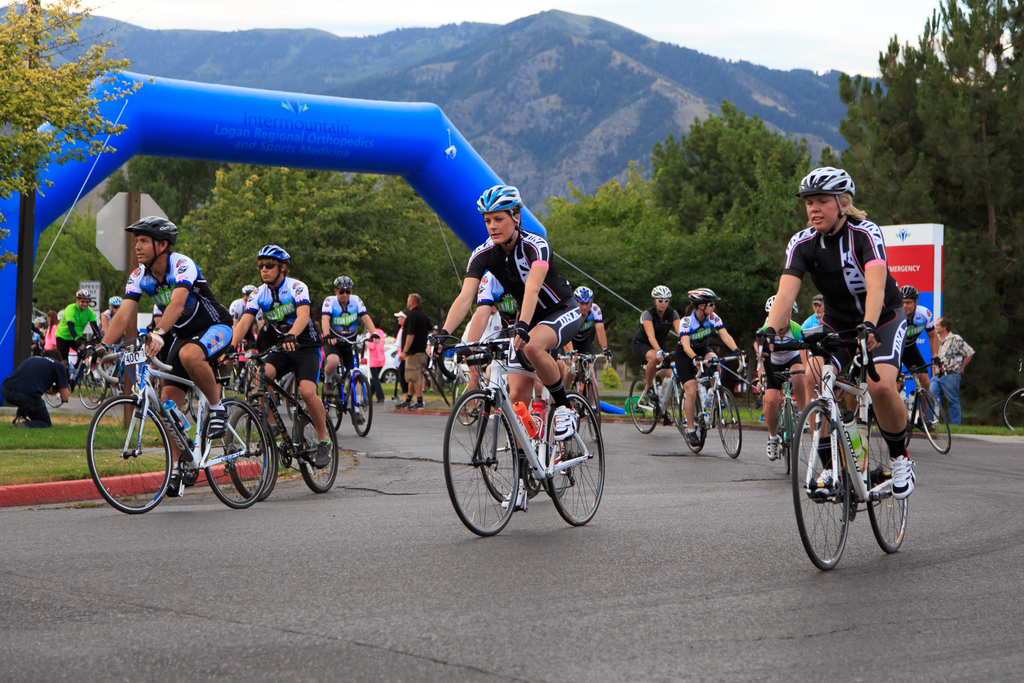Bike_toward: (751, 325, 924, 569), (425, 324, 613, 540), (90, 330, 270, 514), (234, 334, 341, 502), (672, 350, 748, 461), (328, 331, 382, 441)
